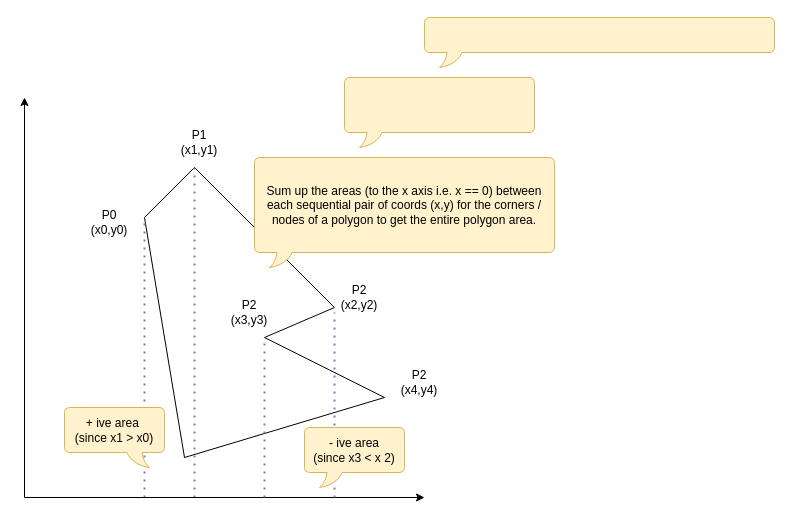
Image size: 792x523. Some labels were removed from this diagram. The shapes that lost their labels are listed below. From the top down, each one's box as (x1, y1, x2, y2) in pixels, then its label:
(424, 16, 774, 68): See https://en.wikipedia.org/wiki/Shoelace_formula
(344, 76, 534, 148): Shoelace / Guass's area / Surveyor's formula.
